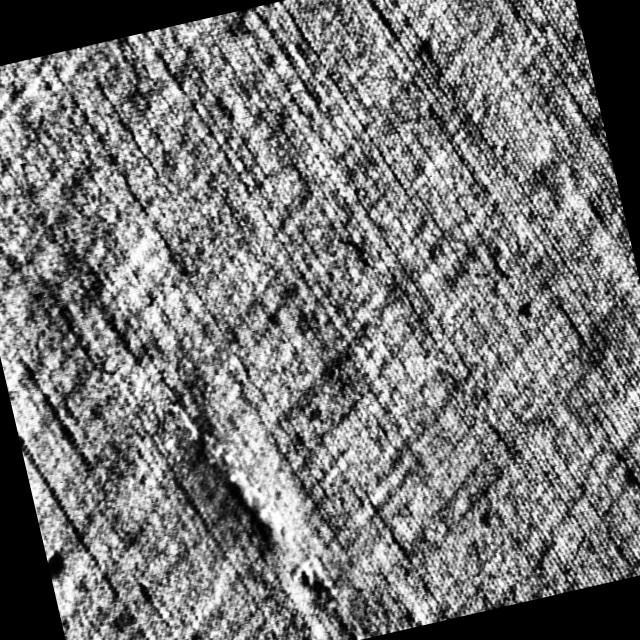gray stitch: (180, 393, 343, 640)
